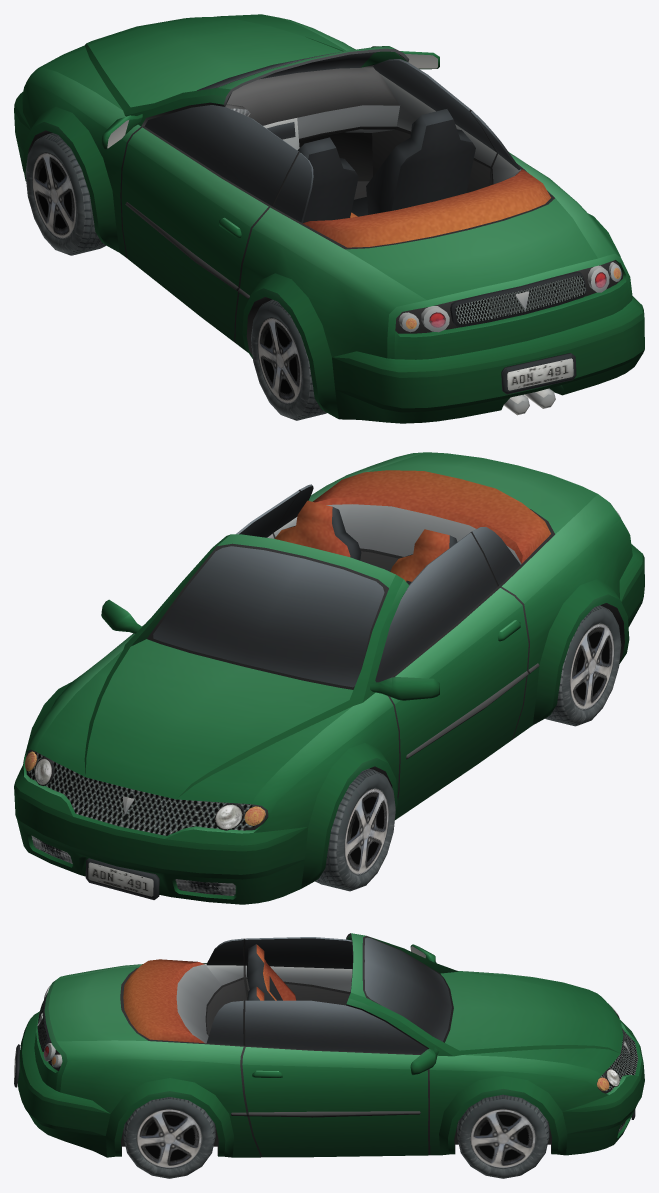
Rendered from VHC0110003.FBX.
The picture shows the model from 3 angles, top to bottom: view 1: azimuth 30°, elevation 25°; view 2: azimuth 150°, elevation 25°; view 3: azimuth 270°, elevation 25°; orthographic projection. The views are drawn at different scales.
Parts seen in each view (by area): view 1: smVHC0110003; view 2: smVHC0110003; view 3: smVHC0110003.
Boxes of the visible parts, x1,y1,x2,y2 form: smVHC0110003: (14,14,644,423); smVHC0110003: (14,452,644,904); smVHC0110003: (14,933,644,1178).
Size of the model in its own units: 168 by 109 by 367.
1 material, 1 textured.
